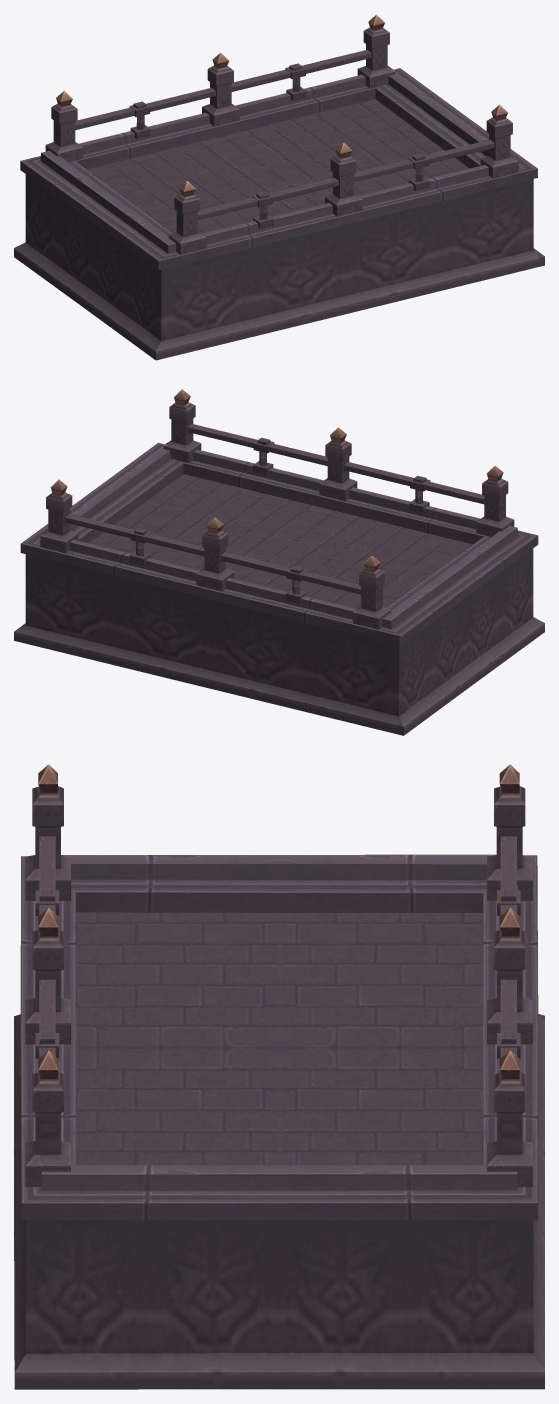
Rendered from SD_jianzhu06.FBX.
3 renders of one model, top to bottom at view 1: azimuth 30°, elevation 25°; view 2: azimuth 150°, elevation 25°; view 3: azimuth 270°, elevation 25°, orthographic. The views are drawn at different scales.
Visible parts, largest first — view 1: SD_jianzhu06; view 2: SD_jianzhu06; view 3: SD_jianzhu06.
Boxes of the visible parts, x1,y1,x2,y2 form: SD_jianzhu06: [14, 14, 544, 360]; SD_jianzhu06: [14, 389, 544, 735]; SD_jianzhu06: [14, 764, 544, 1389].
Size of the model in its own units: 475 by 190 by 299.
1 material, 1 textured.
